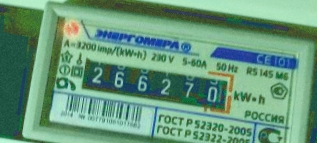0: (203, 82, 217, 103)
2: (88, 62, 105, 85), (157, 75, 172, 97)
6: (134, 71, 149, 92), (111, 68, 125, 89)
7: (180, 78, 195, 99)
screen: (65, 43, 245, 124)
